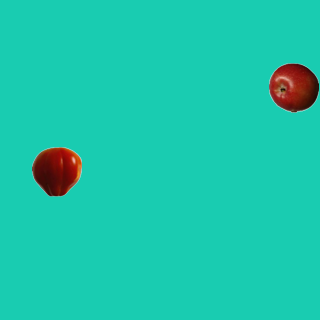Apple Braeburn: (268, 62, 318, 112)
Tomato 1: (31, 146, 81, 196)
